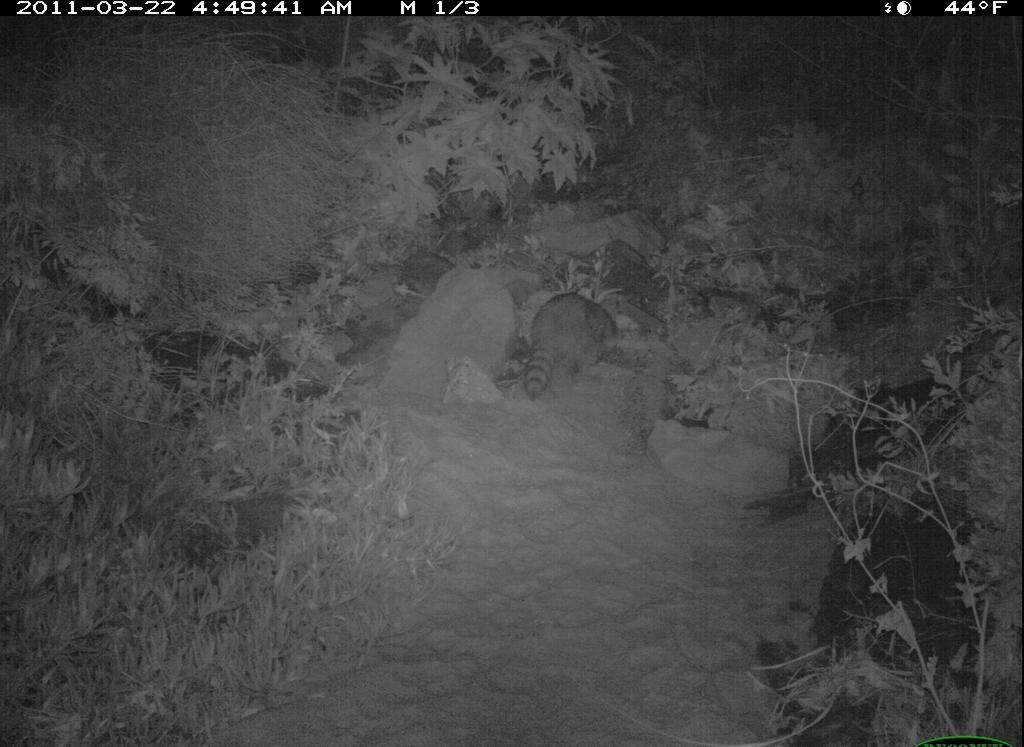raccoon: (520, 280, 635, 411)
